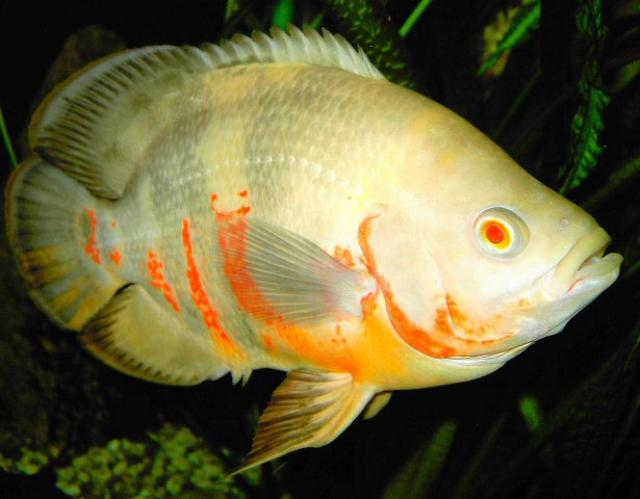Mulut: (558, 210, 628, 327)
Sirip Anal: (65, 266, 238, 404)
Sirip Dada: (208, 203, 372, 351)
Sirip Ekor: (5, 138, 119, 346)
Sirip Perut: (218, 358, 362, 486)
Sirip Punggung: (32, 10, 394, 208)
